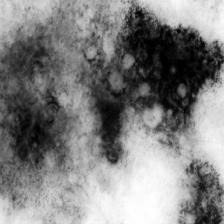Benign Marking or Mole: (0, 0, 224, 163), (179, 165, 224, 224)
